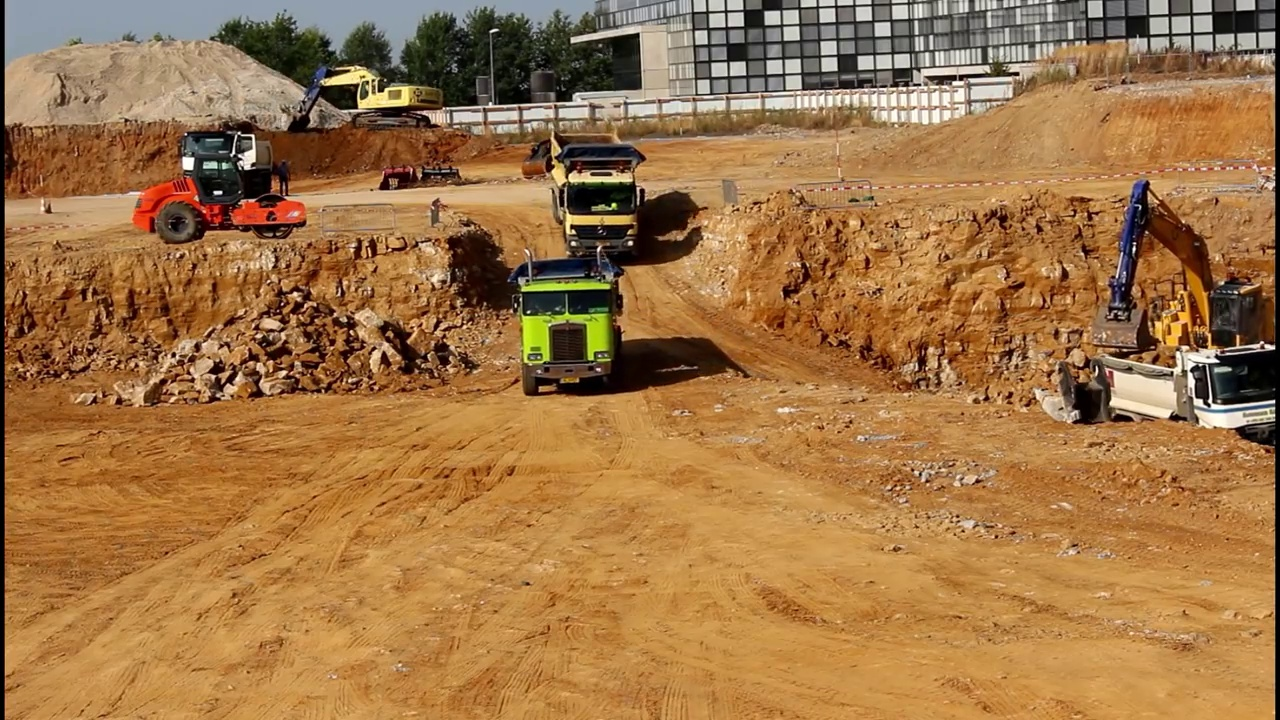compactor: (131, 152, 310, 244)
excavator: (1084, 175, 1280, 392), (278, 59, 448, 136)
truck: (1085, 334, 1280, 464), (507, 245, 631, 399), (544, 123, 648, 258), (181, 120, 281, 205)
worker: (275, 152, 292, 200)
